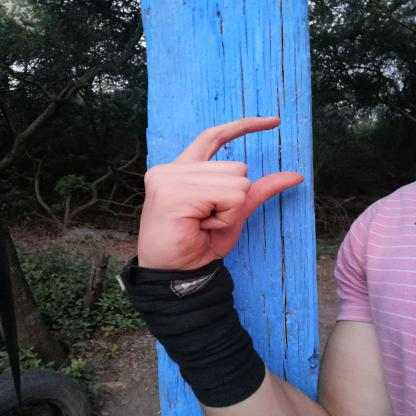DELL: (120, 106, 315, 286)
